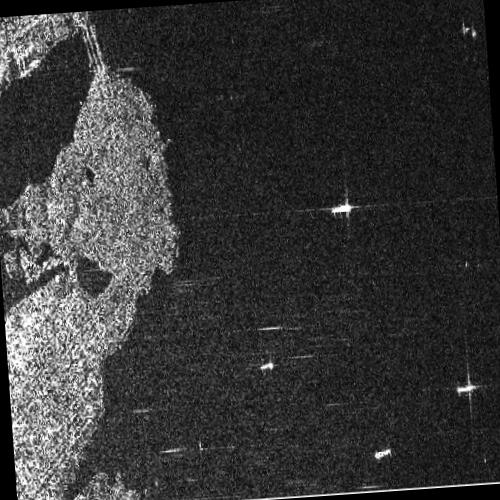ship: (330, 203, 352, 214), (373, 447, 391, 459), (456, 384, 475, 393), (260, 361, 273, 370)
